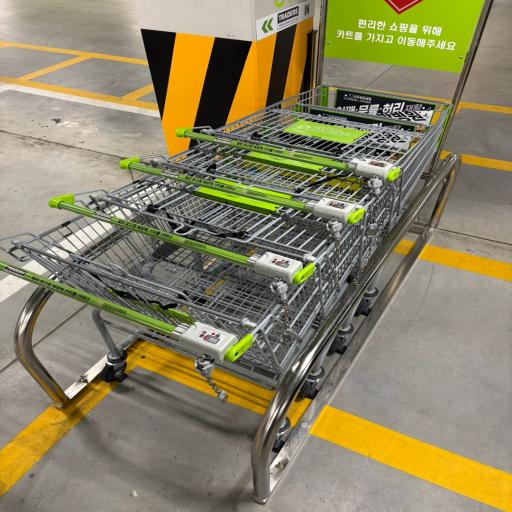combined_cart: (0, 78, 475, 512)
